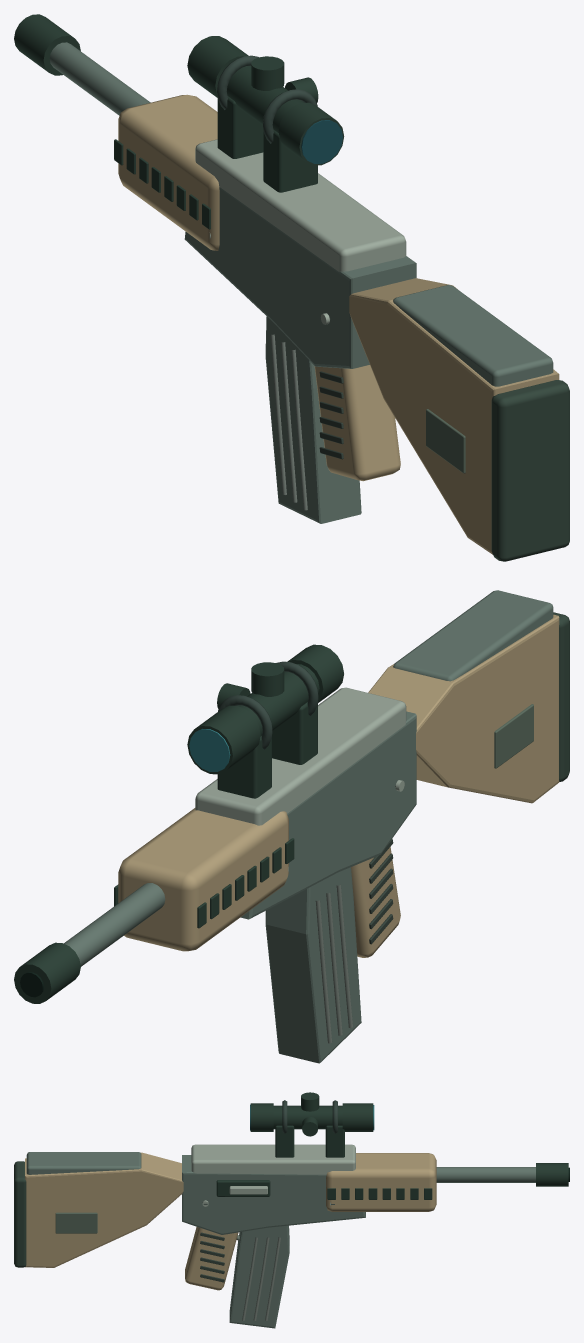
The picture shows the model from 3 angles, top to bottom: view 1: azimuth 30°, elevation 25°; view 2: azimuth 150°, elevation 25°; view 3: azimuth 270°, elevation 25°; orthographic projection. The views are drawn at different scales.
Visible parts, largest first — view 1: sg553, magazine; view 2: sg553, magazine; view 3: sg553, magazine, bolt.
Boxes of the visible parts, left/top/right/bottom form: sg553: left=14, top=14, right=569, bottom=561; magazine: left=265, top=316, right=361, bottom=523; sg553: left=14, top=590, right=569, bottom=1003; magazine: left=265, top=867, right=361, bottom=1063; sg553: left=14, top=1092, right=569, bottom=1290; magazine: left=229, top=1225, right=289, bottom=1328; bolt: left=216, top=1180, right=270, bottom=1196.
Size of the model in its own units: 0.1485 by 0.6541 by 1.45.
